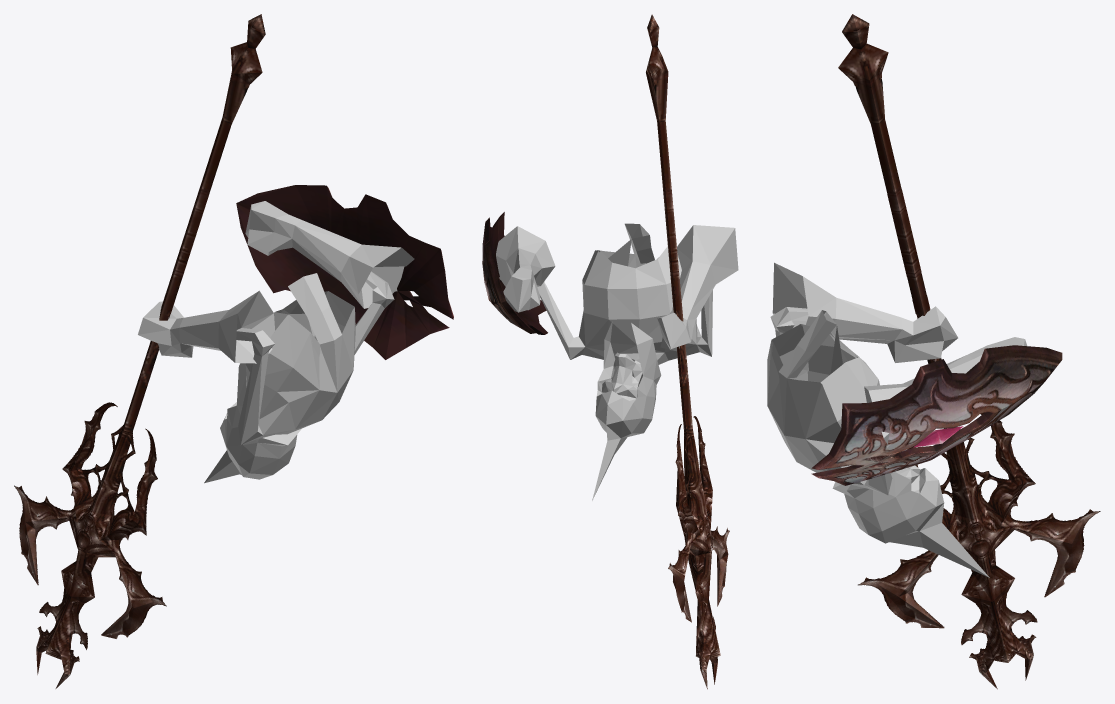
The model's file is tx_huohun_fire_a.obj.
The picture shows the model from 3 angles, left to right: view 1: azimuth 30°, elevation 25°; view 2: azimuth 150°, elevation 25°; view 3: azimuth 270°, elevation 25°; orthographic projection. The views are drawn at different scales.
Visible parts, largest first — view 1: huohun, zhang, dun; view 2: huohun, zhang, dun; view 3: huohun, zhang, dun.
Boxes of the visible parts, bbox=[...] form: huohun: bbox=[138, 201, 414, 483]; zhang: bbox=[14, 14, 265, 688]; dun: bbox=[236, 185, 453, 359]; huohun: bbox=[496, 223, 738, 500]; zhang: bbox=[646, 14, 729, 689]; dun: bbox=[482, 212, 547, 334]; huohun: bbox=[767, 262, 1027, 577]; zhang: bbox=[838, 14, 1100, 689]; dun: bbox=[811, 345, 1062, 485].
Bounding box in the file's own units: 57 × 115 × 46.22.
